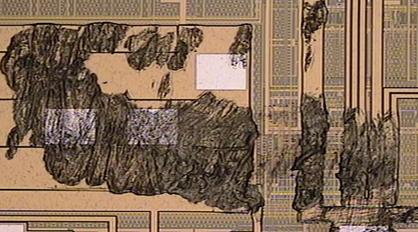SCRATCH: (1, 1, 418, 232)
